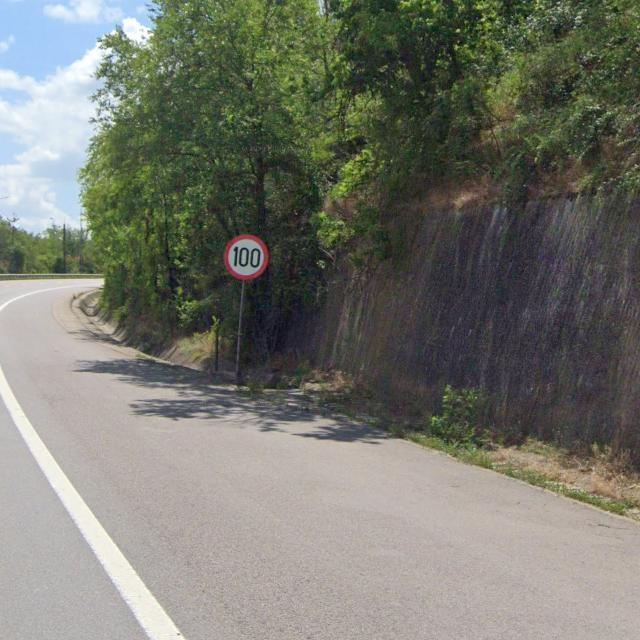forb_speed_over_100: (224, 235, 269, 281)
